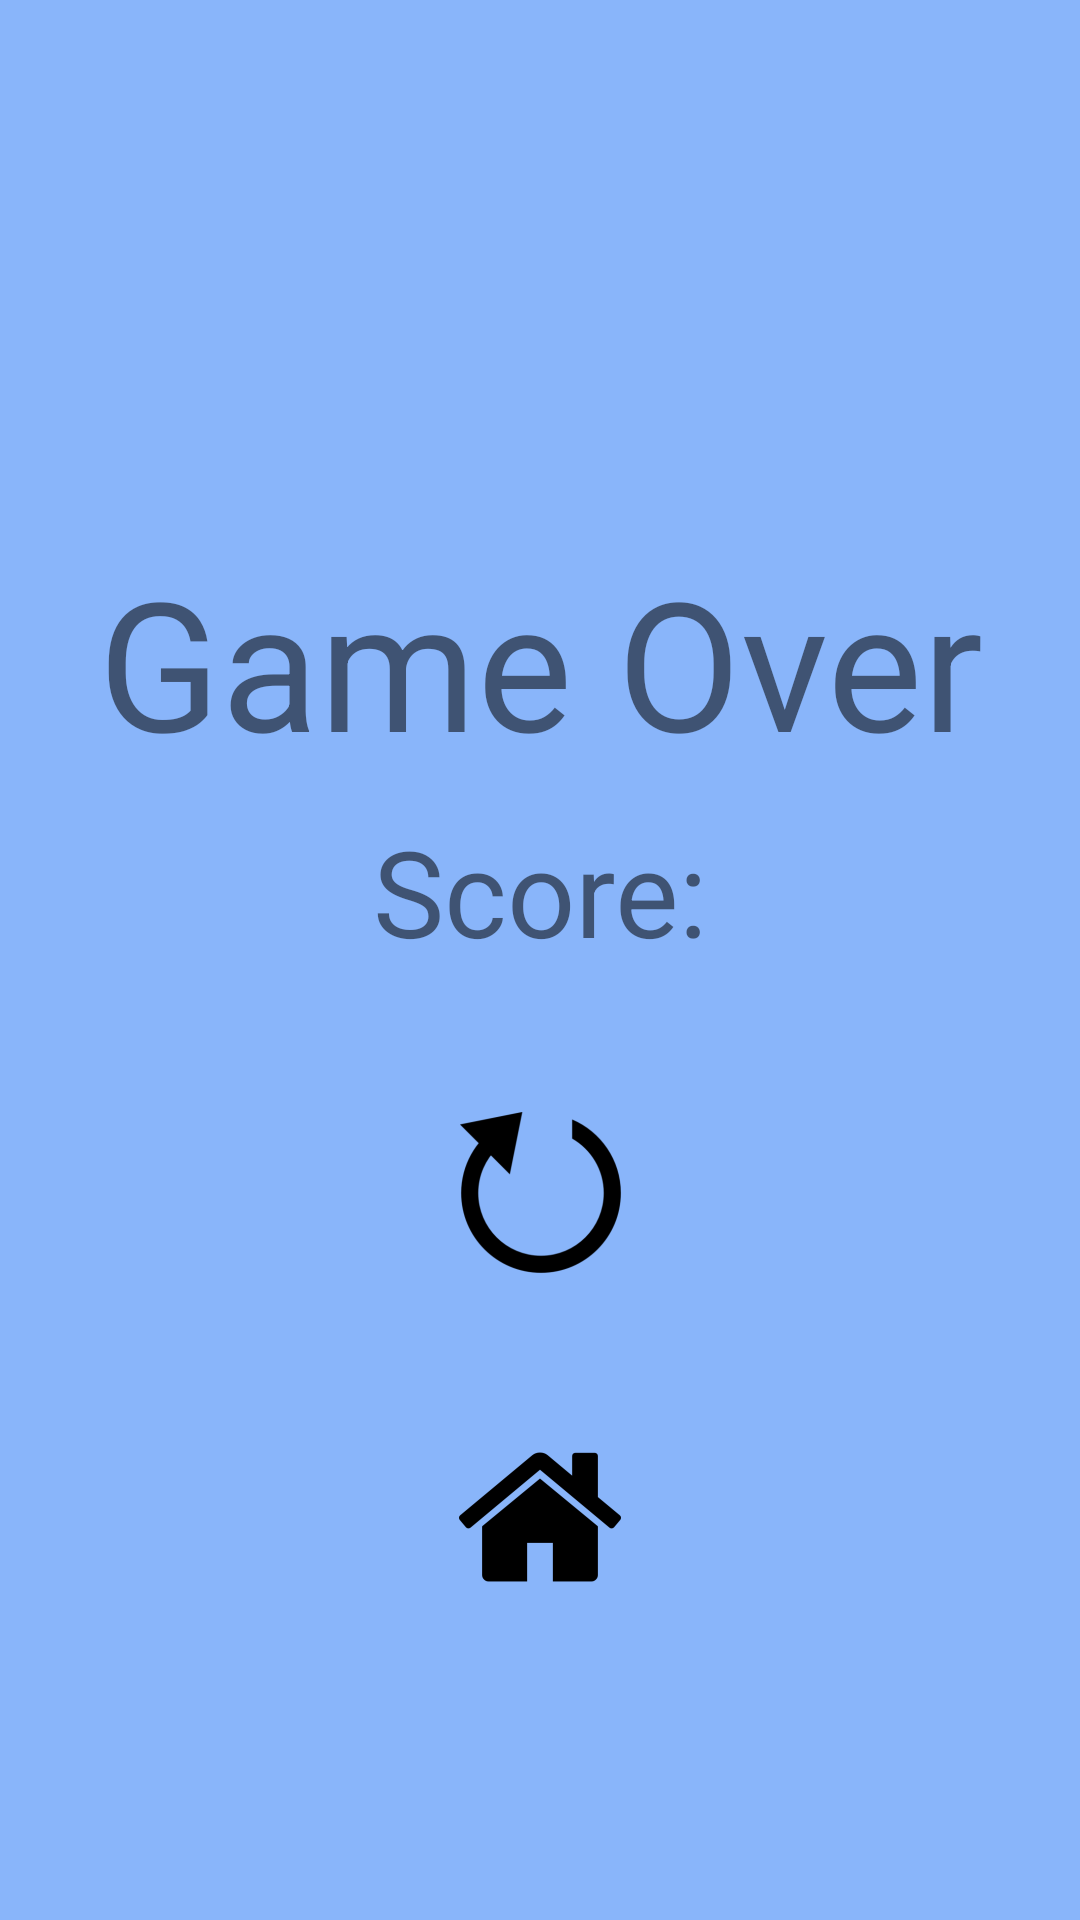

Point at icon controls on the screen. Image size 1080px×1920px, points as point (x, y).
home: point (540, 1517)
restart: point (540, 1192)
